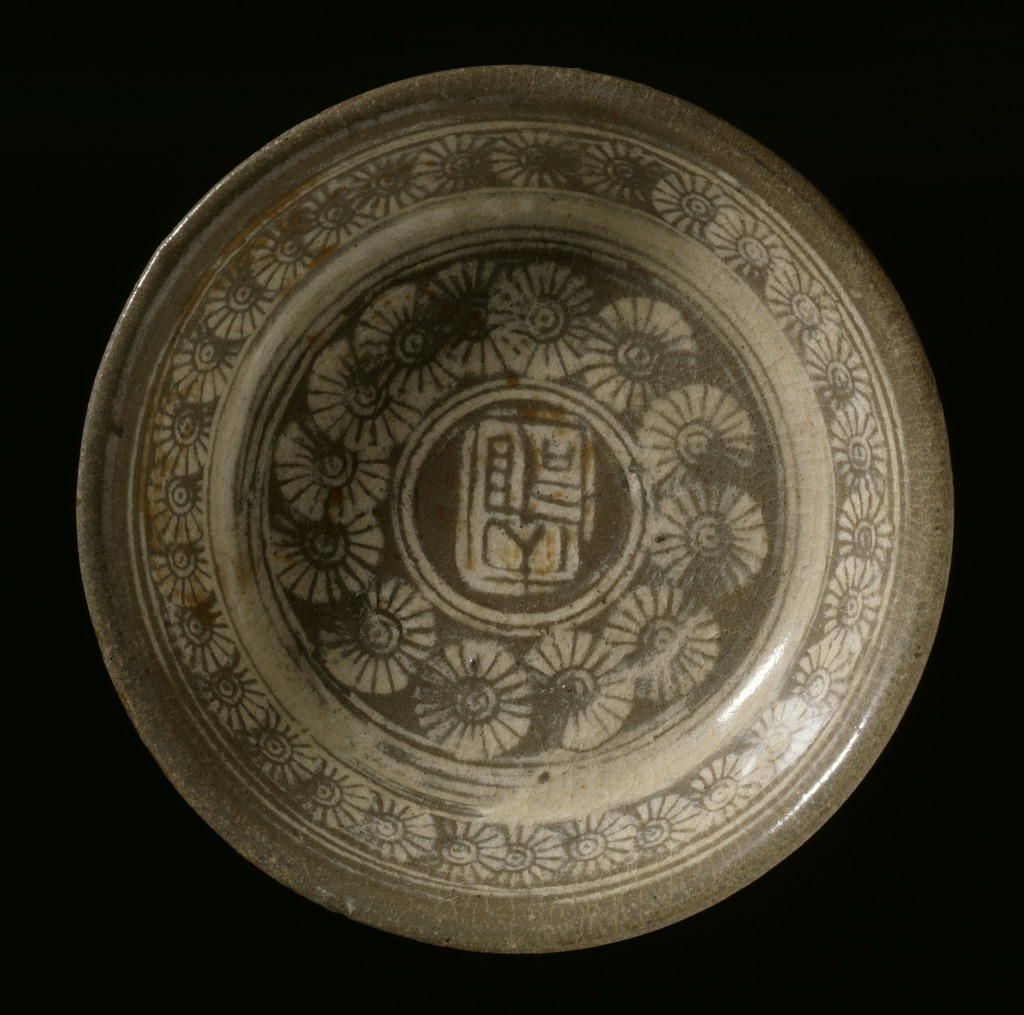plate: (38, 90, 920, 931)
